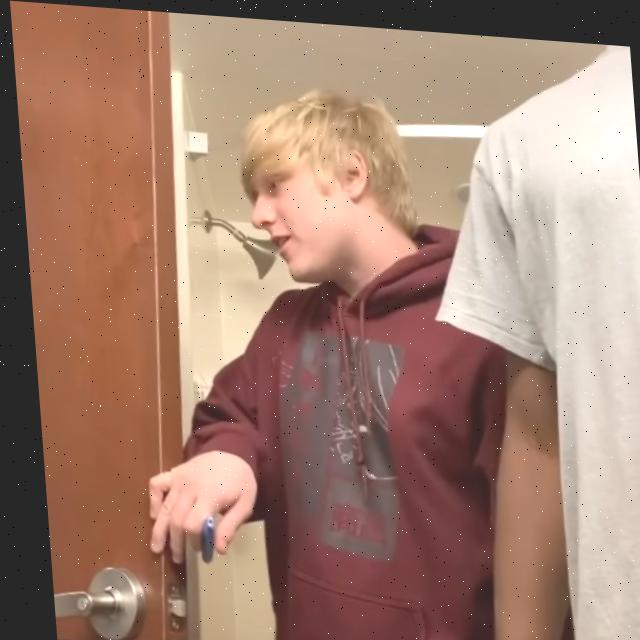vape: (188, 513, 211, 563)
